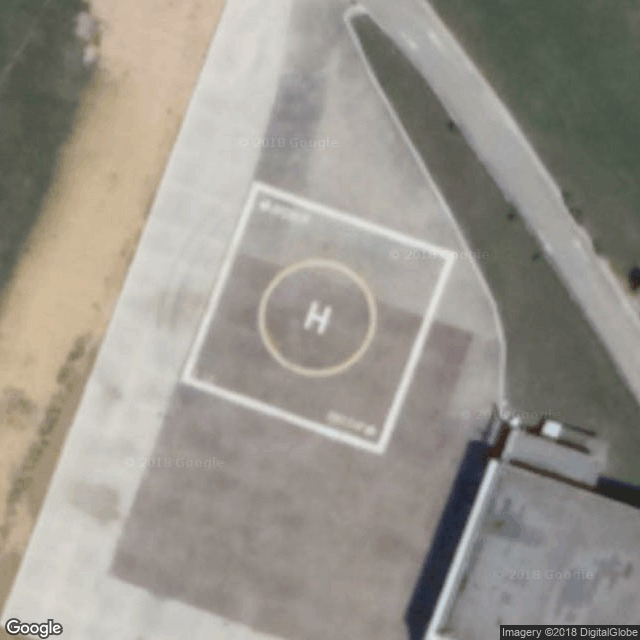heliport: (301, 298, 335, 339)
